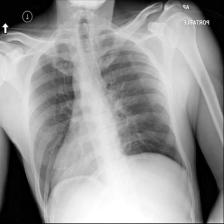normal: (22, 26, 194, 206)
